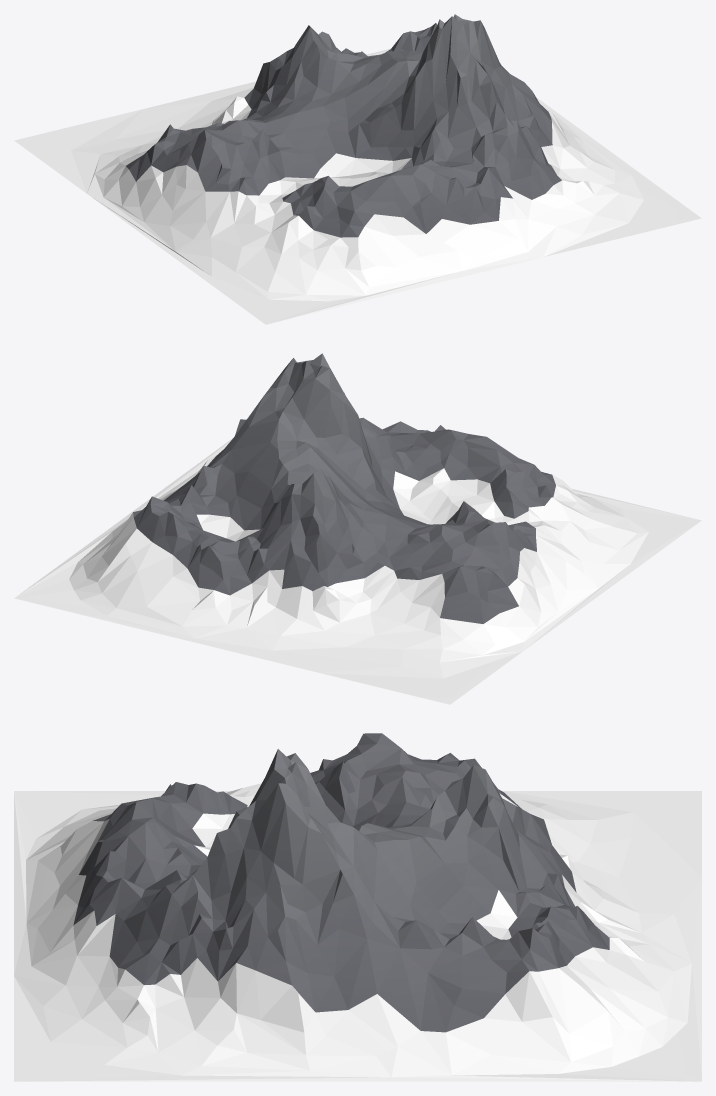
The model's file is Landscape_07.fbx.
The picture shows the model from 3 angles, top to bottom: view 1: azimuth 30°, elevation 25°; view 2: azimuth 150°, elevation 25°; view 3: azimuth 270°, elevation 25°; orthographic projection. The views are drawn at different scales.
Visible parts, largest first — view 1: Landscape_07; view 2: Landscape_07; view 3: Landscape_07.
Part boxes in pixels (x1,y1,x2,y2): Landscape_07: [14, 14, 701, 324]; Landscape_07: [14, 353, 701, 704]; Landscape_07: [14, 733, 701, 1081].
Bounding box in the file's own units: 10000 × 3704 × 10000.
